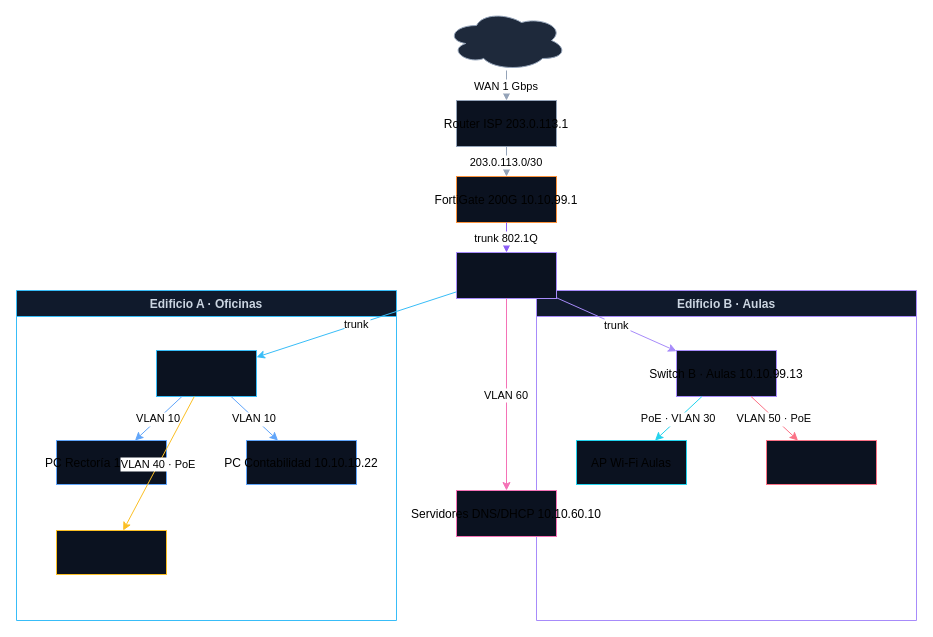
Image size: 933x637. Some labels were removed from this diagram. The shapes that lost their labels are listed below. From the top down, each one's centre as x and y in pixels, then its label:
point 506,40: Internet
point 506,275: Core FS-148F 10.10.99.11
point 206,373: Switch A · Oficinas 10.10.99.12
point 821,462: Cámara CCTV
point 111,552: Teléfono IP · Voz
